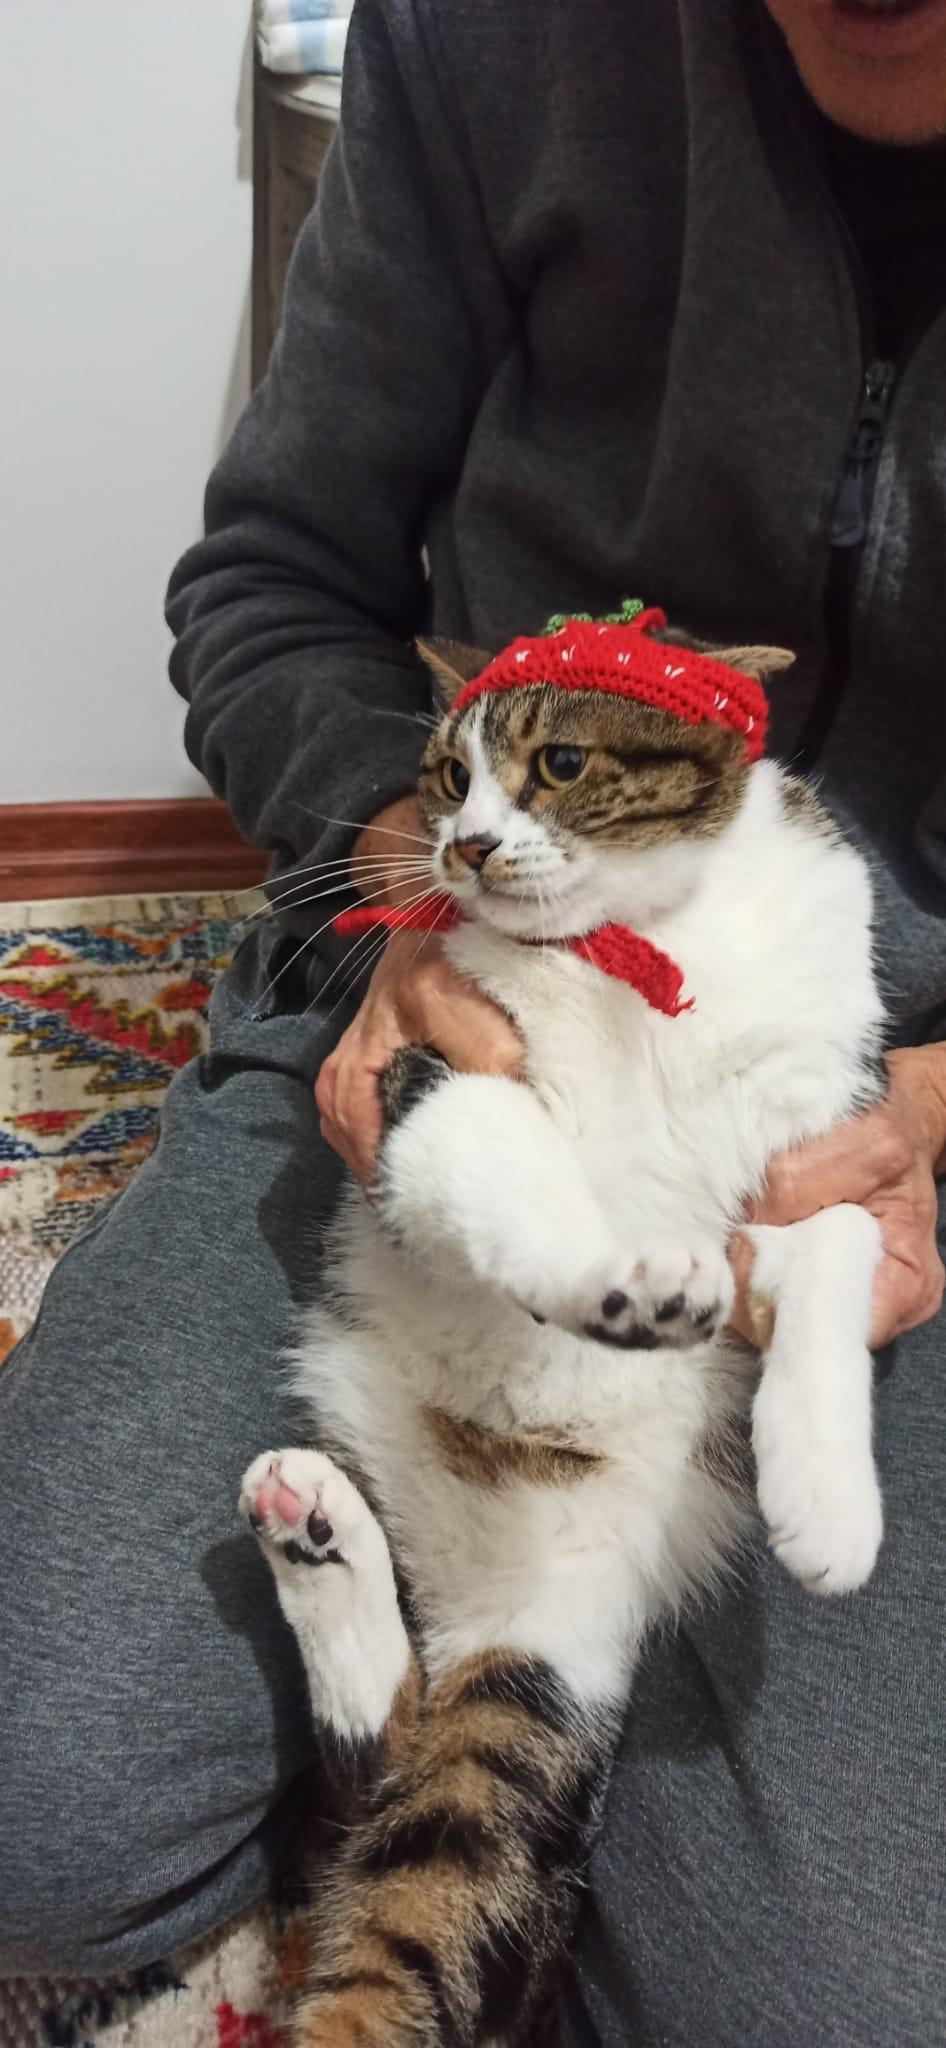kedo: (233, 594, 889, 2048)
